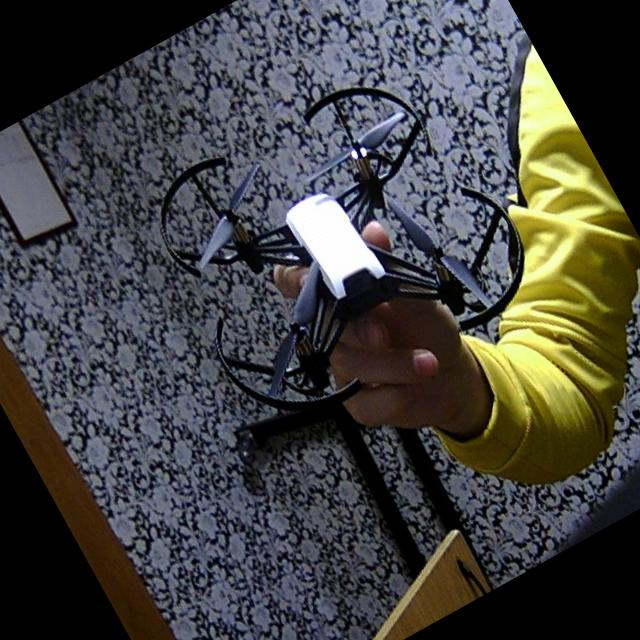drone: (107, 18, 562, 460)
